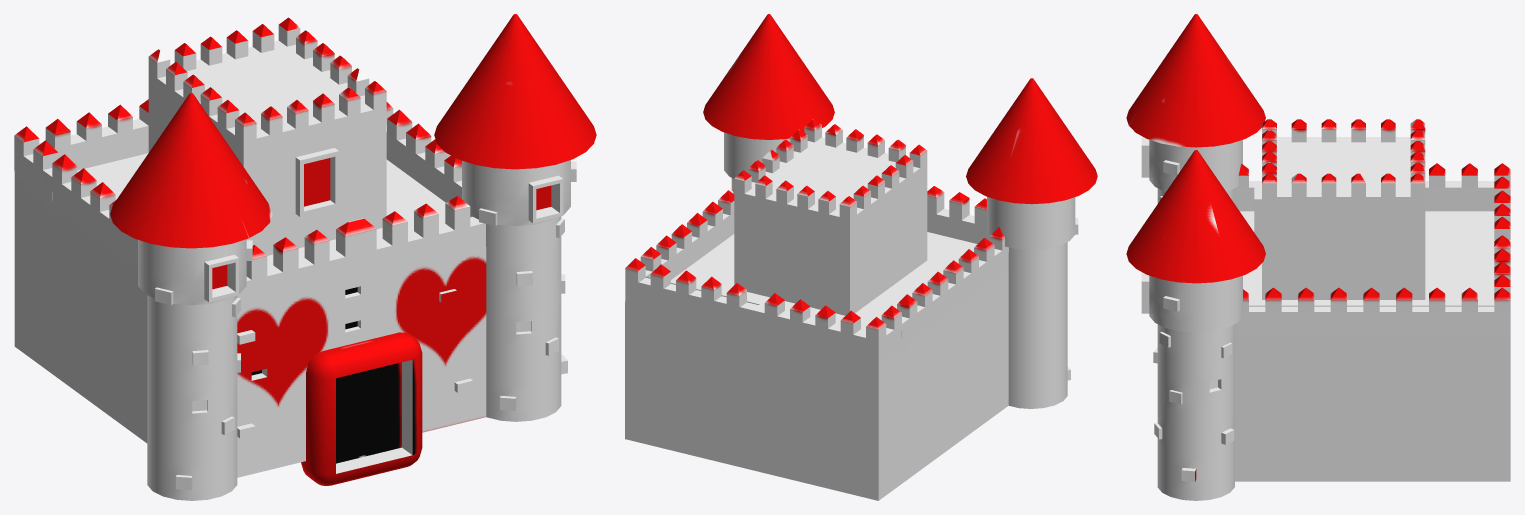
The model's file is castle.FBX.
3 renders of one model, left to right at view 1: azimuth 30°, elevation 25°; view 2: azimuth 150°, elevation 25°; view 3: azimuth 270°, elevation 25°, orthographic. The views are drawn at different scales.
Parts seen in each view (by area): view 1: Box002; view 2: Box002; view 3: Box002.
Part boxes in pixels (x1,y1,x2,y2): Box002: (14,14,596,500); Box002: (625,14,1097,500); Box002: (1126,14,1510,500).
Size of the model in its own units: 98.32 by 83.94 by 81.91.
Materials: 1 (1 with a texture image).
